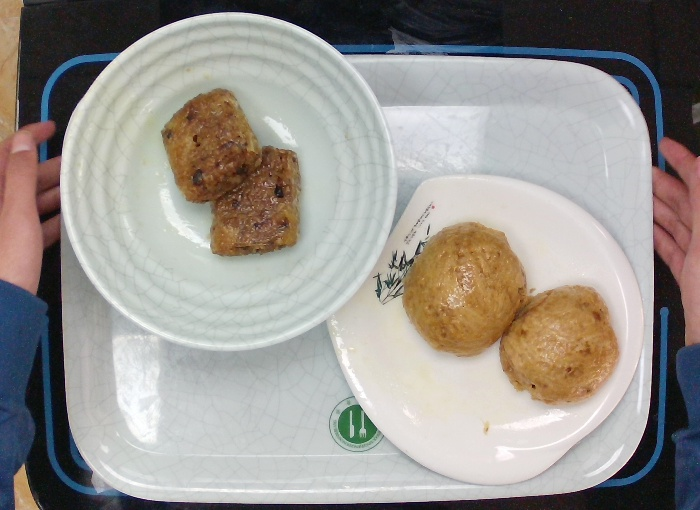JYsf-Da_Tang_Wan: (52, 5, 401, 354)
JYsf-Mian_Pan: (324, 169, 649, 493)
